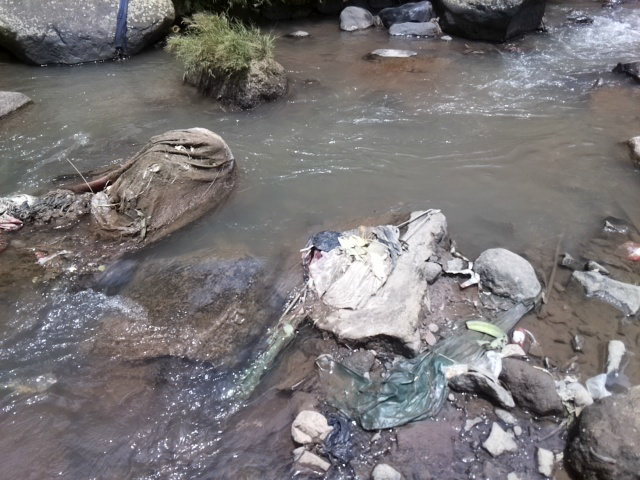Sampah_Plastik: (625, 240, 640, 262)
